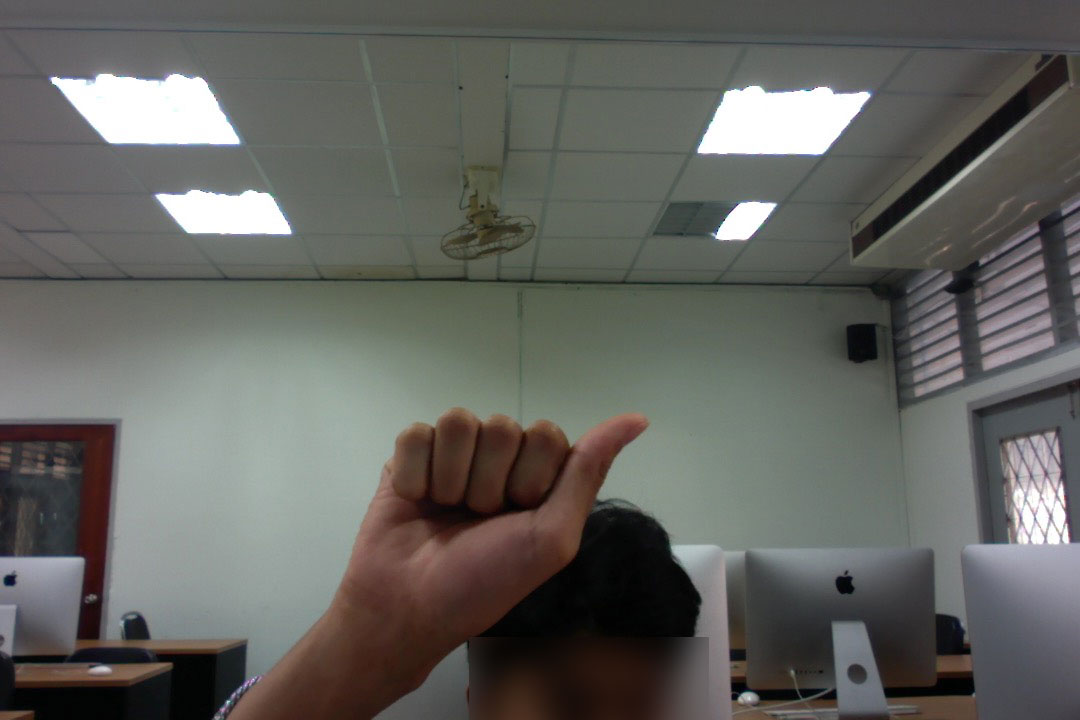or: (316, 404, 673, 649)
